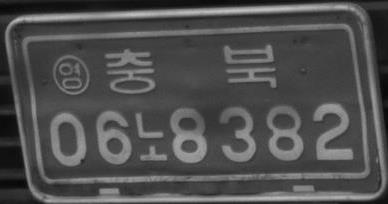0: (48, 111, 87, 168)
2: (311, 101, 354, 161)
3: (219, 105, 256, 163)
6: (95, 109, 133, 166)
8: (266, 103, 305, 162), (169, 106, 208, 164)
노: (134, 111, 166, 161)
영: (51, 54, 90, 96)
충북_D: (105, 43, 277, 94)
